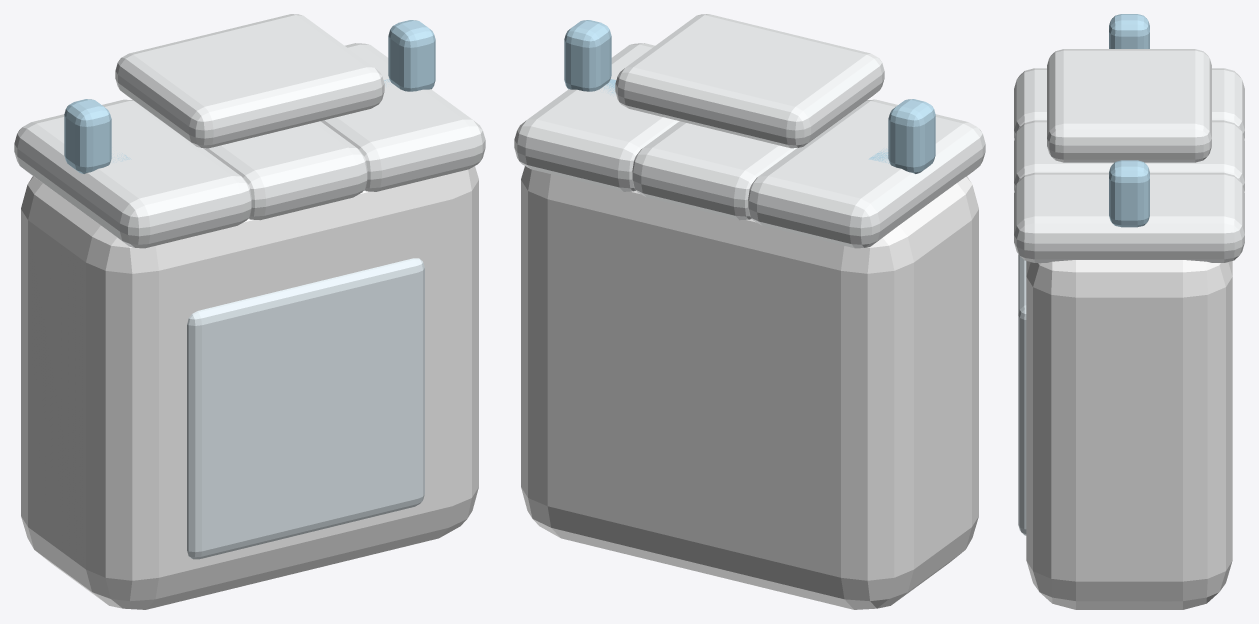
Rendered from yeti.glb.
3 renders of one model, left to right at view 1: azimuth 30°, elevation 25°; view 2: azimuth 150°, elevation 25°; view 3: azimuth 270°, elevation 25°, orthographic. The views are drawn at different scales.
Parts seen in each view (by area): view 1: torso_shell, belly, brow, scruff0, scruff2, scruff1, hornTip-1, hornTip1; view 2: torso_shell, brow, scruff0, scruff2, scruff1, hornTip-1, hornTip1; view 3: torso_shell, brow, scruff2, scruff1, scruff0, hornTip1, belly, hornTip-1.
Boxes of the visible parts, x1,y1,x2,y2 form: torso_shell: [21, 166, 478, 609]; belly: [187, 258, 424, 559]; brow: [115, 14, 384, 148]; scruff0: [14, 99, 251, 248]; scruff2: [320, 43, 485, 191]; scruff1: [203, 121, 367, 220]; hornTip-1: [64, 99, 111, 173]; hornTip1: [388, 20, 435, 91]; torso_shell: [521, 166, 978, 609]; brow: [615, 14, 884, 148]; scruff0: [748, 99, 985, 248]; scruff2: [514, 43, 679, 191]; scruff1: [632, 121, 796, 220]; hornTip-1: [888, 99, 935, 173]; hornTip1: [564, 20, 611, 91]; torso_shell: [1026, 260, 1232, 609]; brow: [1047, 49, 1211, 162]; scruff2: [1014, 172, 1244, 262]; scruff1: [1014, 120, 1244, 191]; scruff0: [1014, 68, 1244, 138]; hornTip1: [1109, 160, 1149, 227]; belly: [1018, 254, 1026, 535]; hornTip-1: [1109, 14, 1149, 48].
Bounding box in the file's own units: 1 × 1.21 × 0.56.
